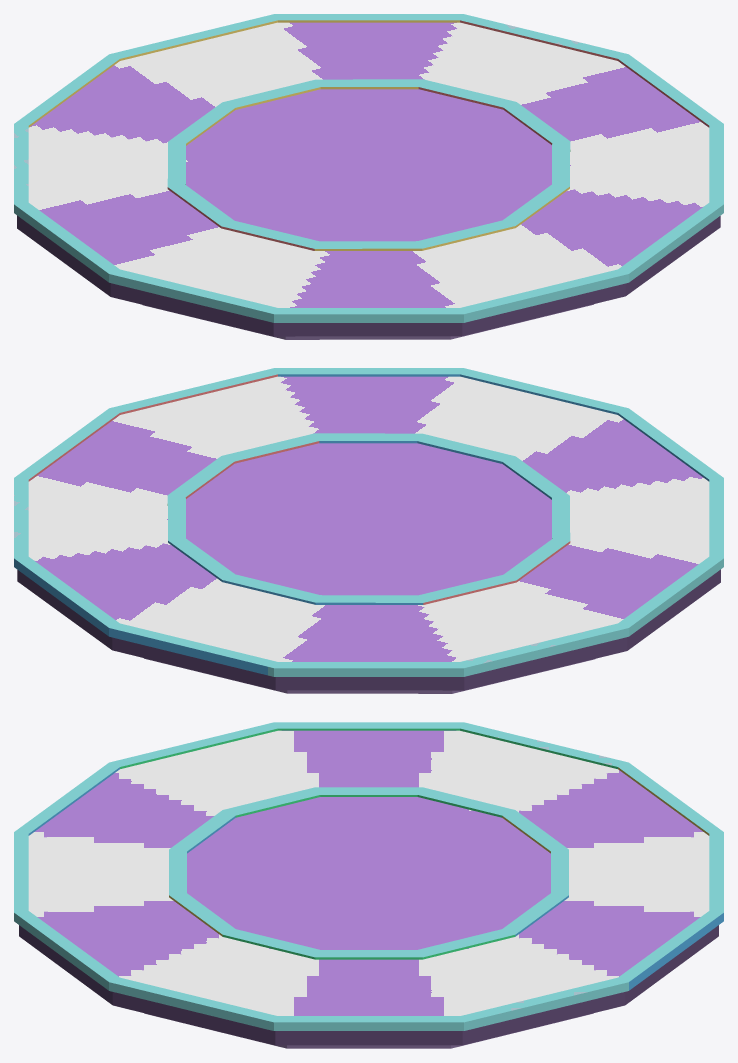
File: bounce_pad_large.gltf
3 views of the same model, one above another, from view 1: azimuth 30°, elevation 25°; view 2: azimuth 150°, elevation 25°; view 3: azimuth 270°, elevation 25° (orthographic).
Visible parts, largest first — view 1: tube; view 2: tube; view 3: tube.
Boxes of the visible parts, bbox=[...] form: tube: bbox=[14, 14, 723, 339]; tube: bbox=[14, 368, 723, 693]; tube: bbox=[14, 722, 723, 1048].
Bounding box in the file's own units: 1.75 × 0.125 × 1.75.
1 material, 1 textured.
